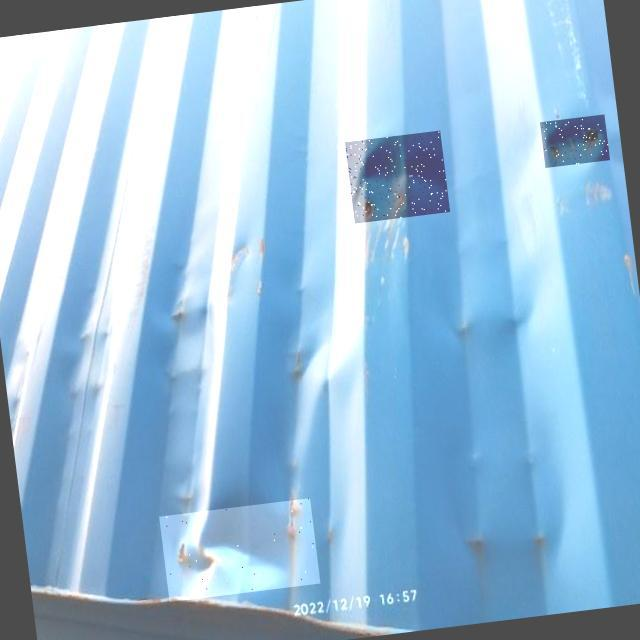Minor-Dent: (160, 498, 321, 602), (345, 130, 450, 223), (540, 114, 610, 168)
